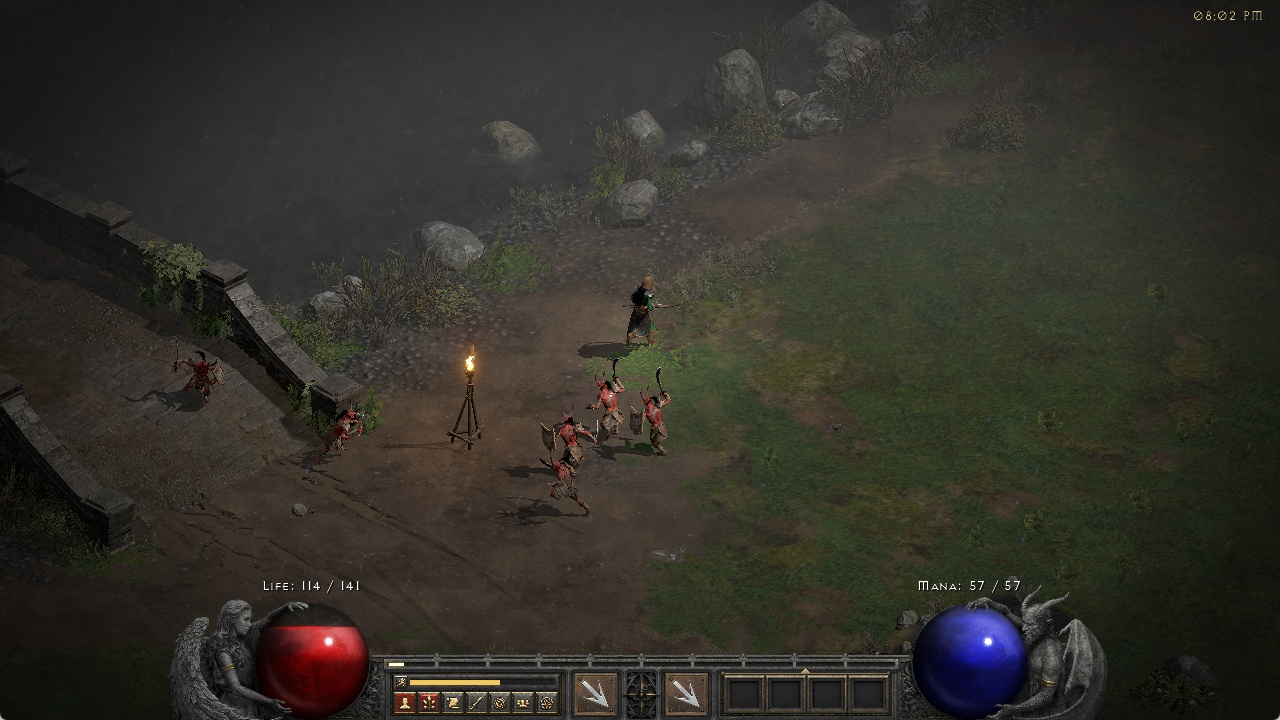fallen: (313, 398, 376, 461), (540, 459, 597, 519), (172, 342, 229, 402), (636, 368, 672, 459), (588, 354, 625, 438), (545, 408, 586, 460)
